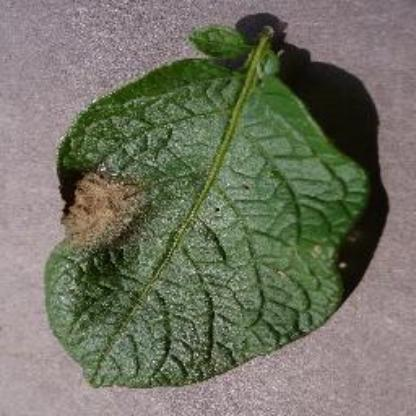Late-Blight: (26, 16, 380, 400)
